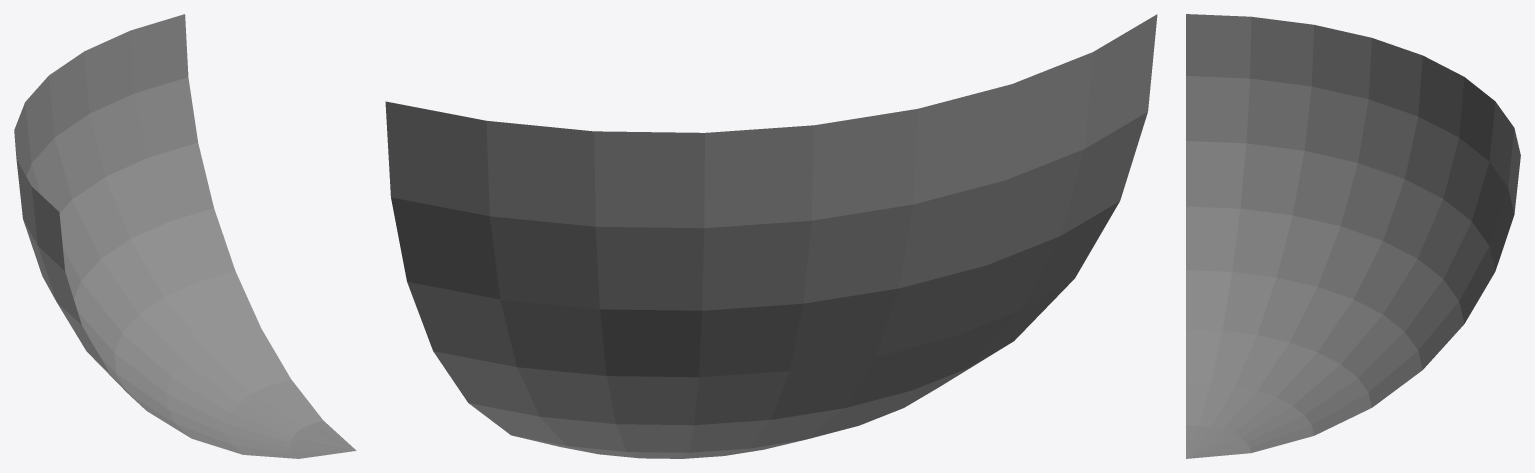
File: r4c2_face_grey.gltf
3 views of the same model, side by side, from view 1: azimuth 30°, elevation 25°; view 2: azimuth 150°, elevation 25°; view 3: azimuth 270°, elevation 25° (orthographic). The views are drawn at different scales.
Parts seen in each view (by area): view 1: r4c2_face_grey; view 2: r4c2_face_grey; view 3: r4c2_face_grey.
Boxes of the visible parts, x1,y1,x2,y2 form: r4c2_face_grey: (14,14,356,458); r4c2_face_grey: (385,14,1157,458); r4c2_face_grey: (1186,14,1520,458).
Size of the model in its own units: 2 by 2 by 2.
1 material, 1 textured.
